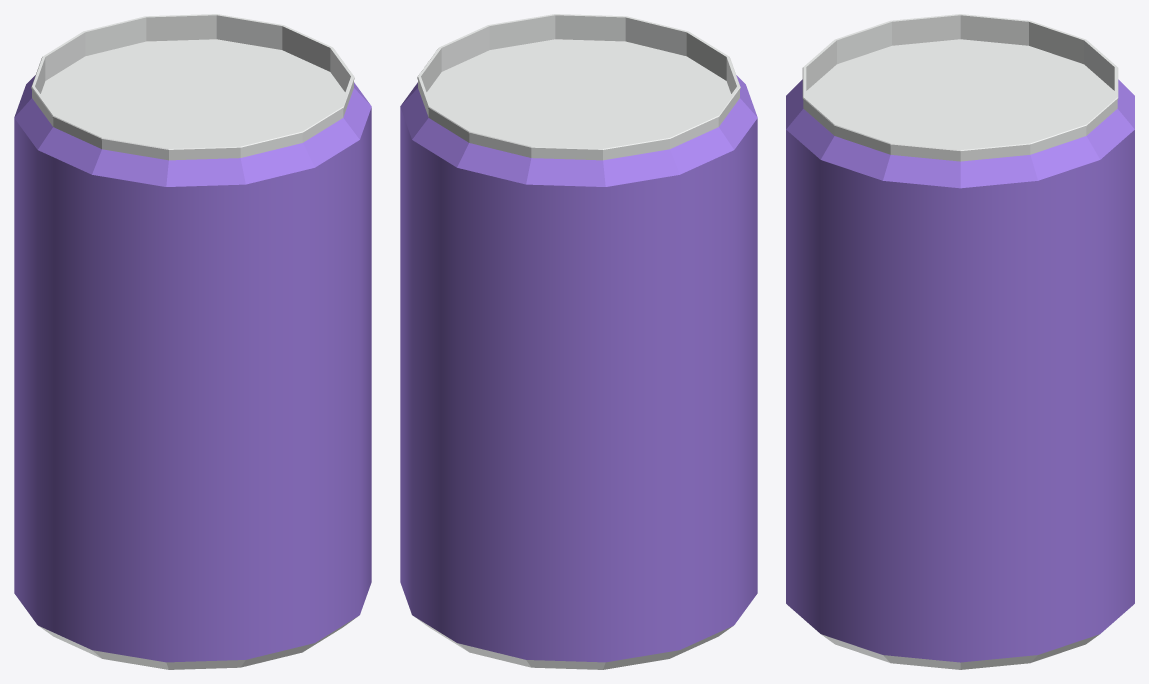
Rendered from SodaCan.fbx.
3 views of the same model, side by side, from view 1: azimuth 30°, elevation 25°; view 2: azimuth 150°, elevation 25°; view 3: azimuth 270°, elevation 25° (orthographic).
Parts seen in each view (by area): view 1: SodaCan; view 2: SodaCan; view 3: SodaCan.
Part boxes in pixels (left/top/right/bottom): SodaCan: left=14, top=14, right=371, bottom=669; SodaCan: left=400, top=14, right=757, bottom=669; SodaCan: left=786, top=14, right=1134, bottom=669.
Size of the model in its own units: 0.4178 by 0.6701 by 0.4074.
2 materials, 2 textured.
